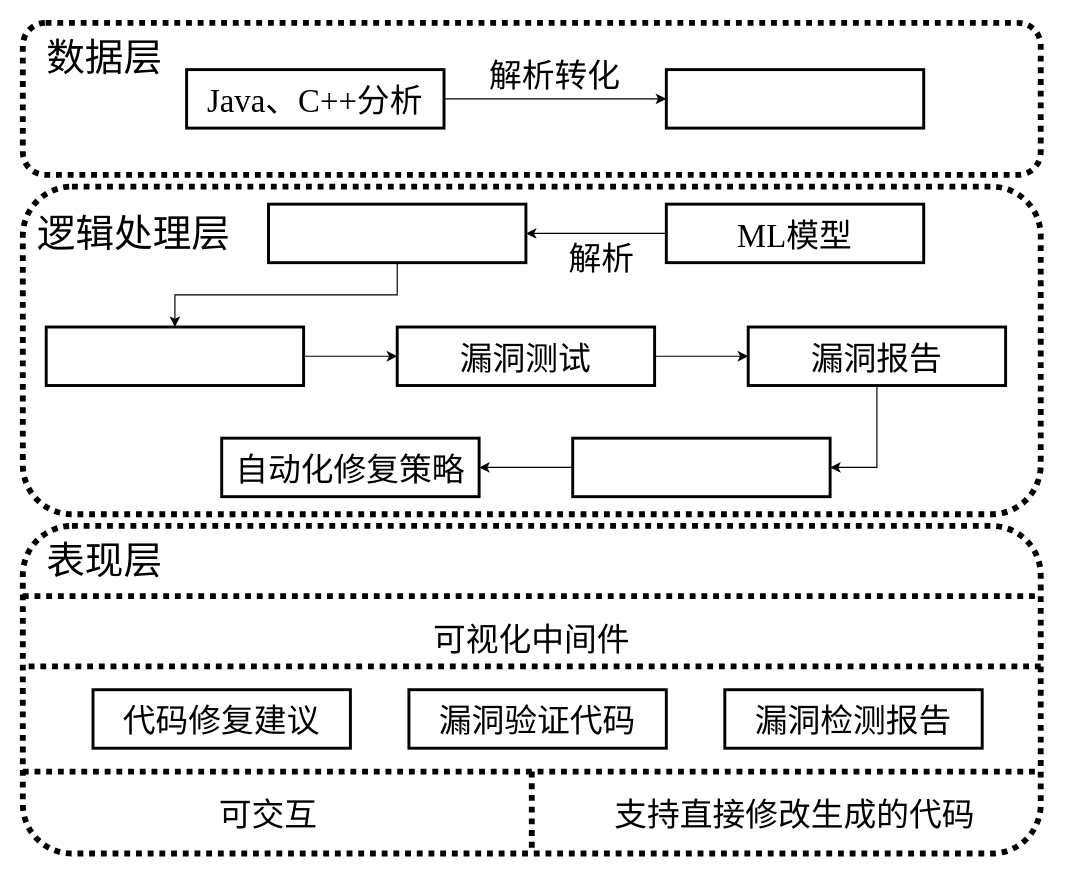
This 1071x877 diagram has some shape labels left out. The centre of each missing label's shape, as x and y in pixels:
"标准化格式数据" belongs at point (794, 98).
"漏洞分析" belongs at point (174, 355).
"漏洞建模" belongs at point (397, 233).
"漏洞验证" belongs at point (701, 467).
